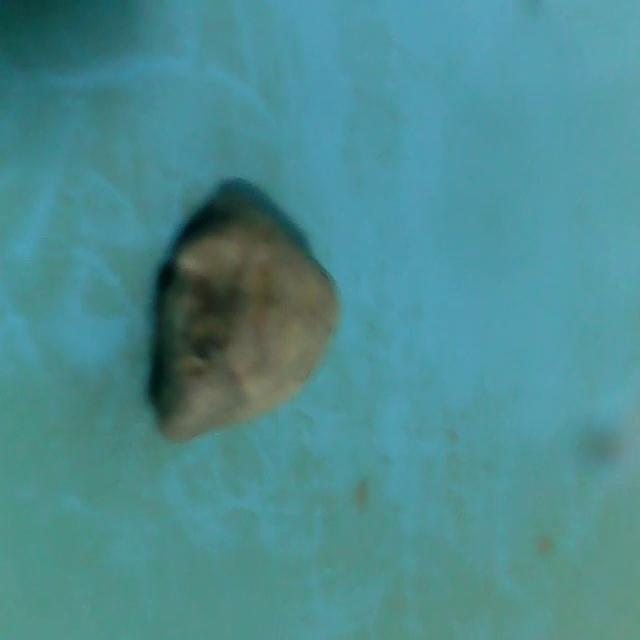rock: (137, 189, 348, 455)
